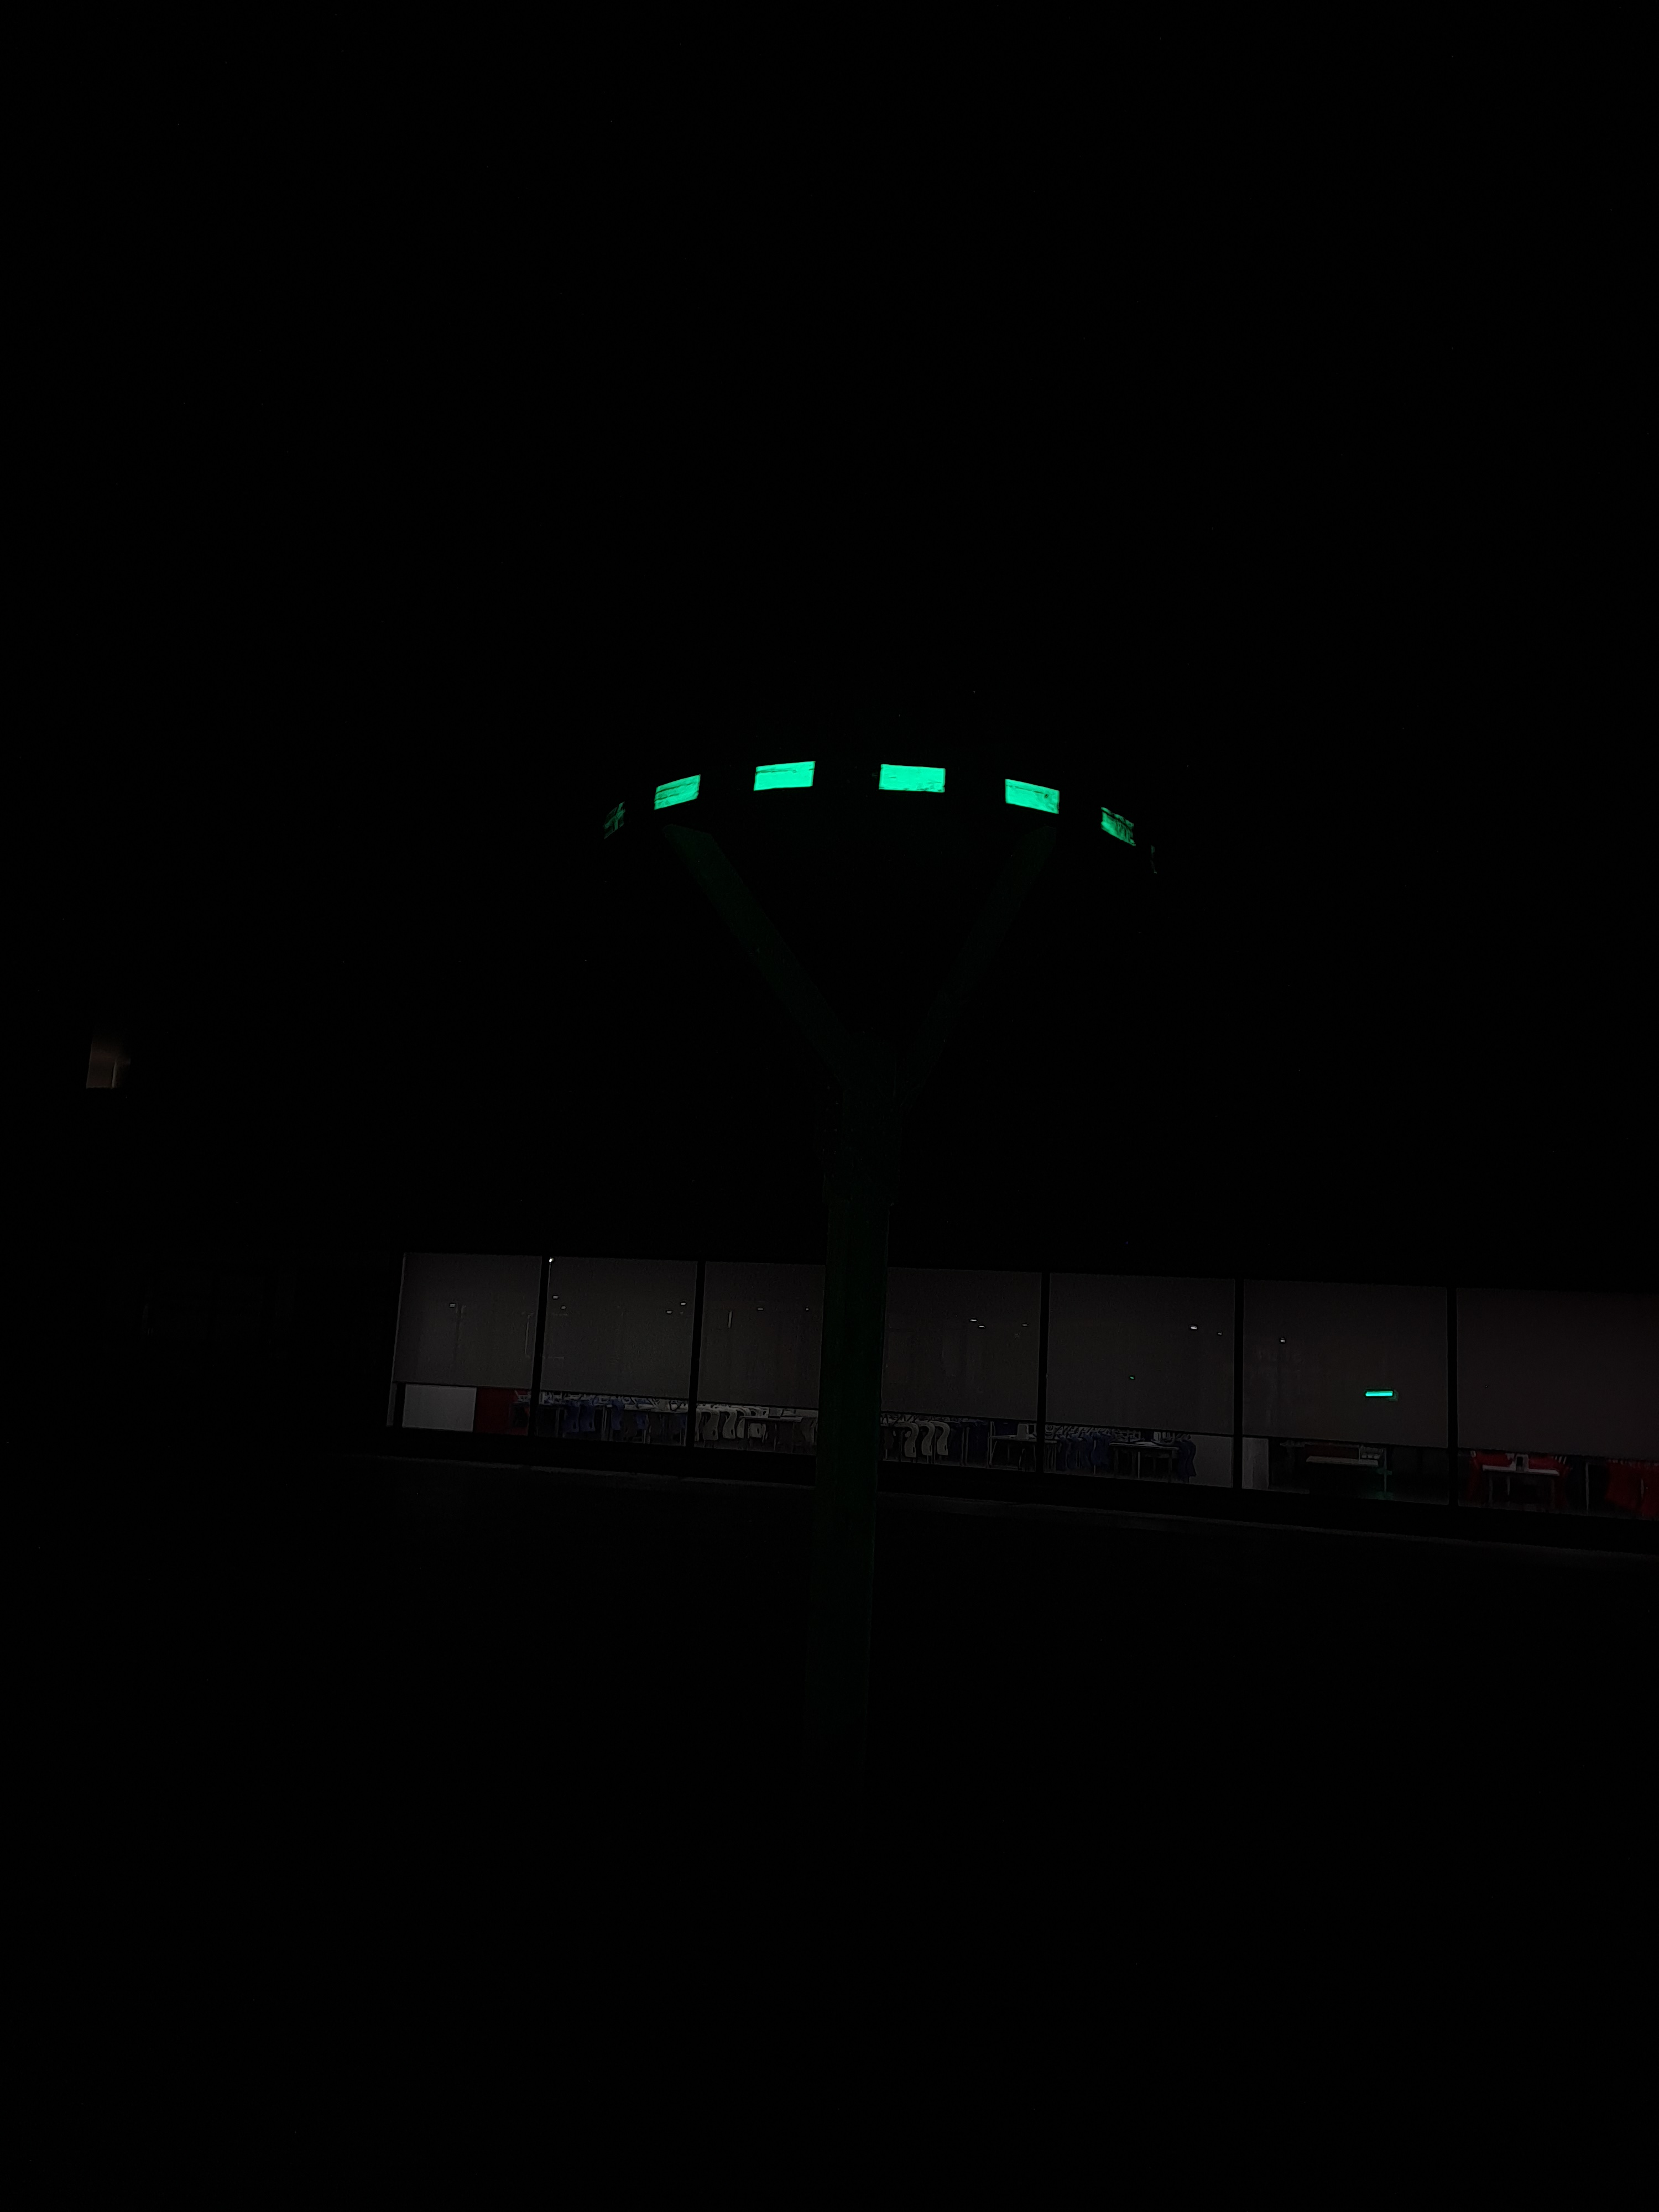hoop: (652, 754, 1140, 859)
